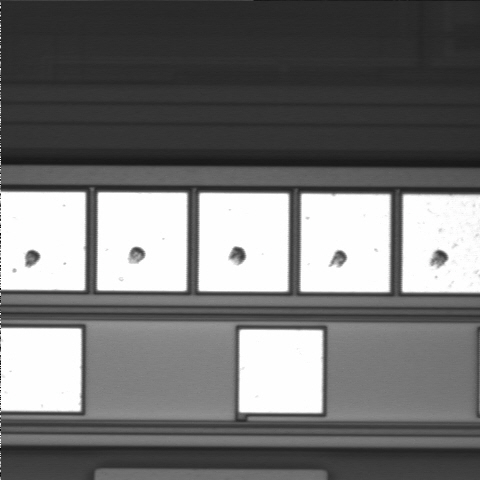pad: (97, 192, 187, 291), (199, 193, 289, 292), (301, 194, 390, 292), (239, 330, 323, 413)
